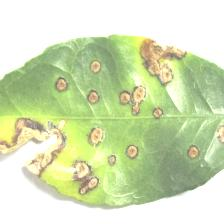canker: (9, 33, 183, 182)
